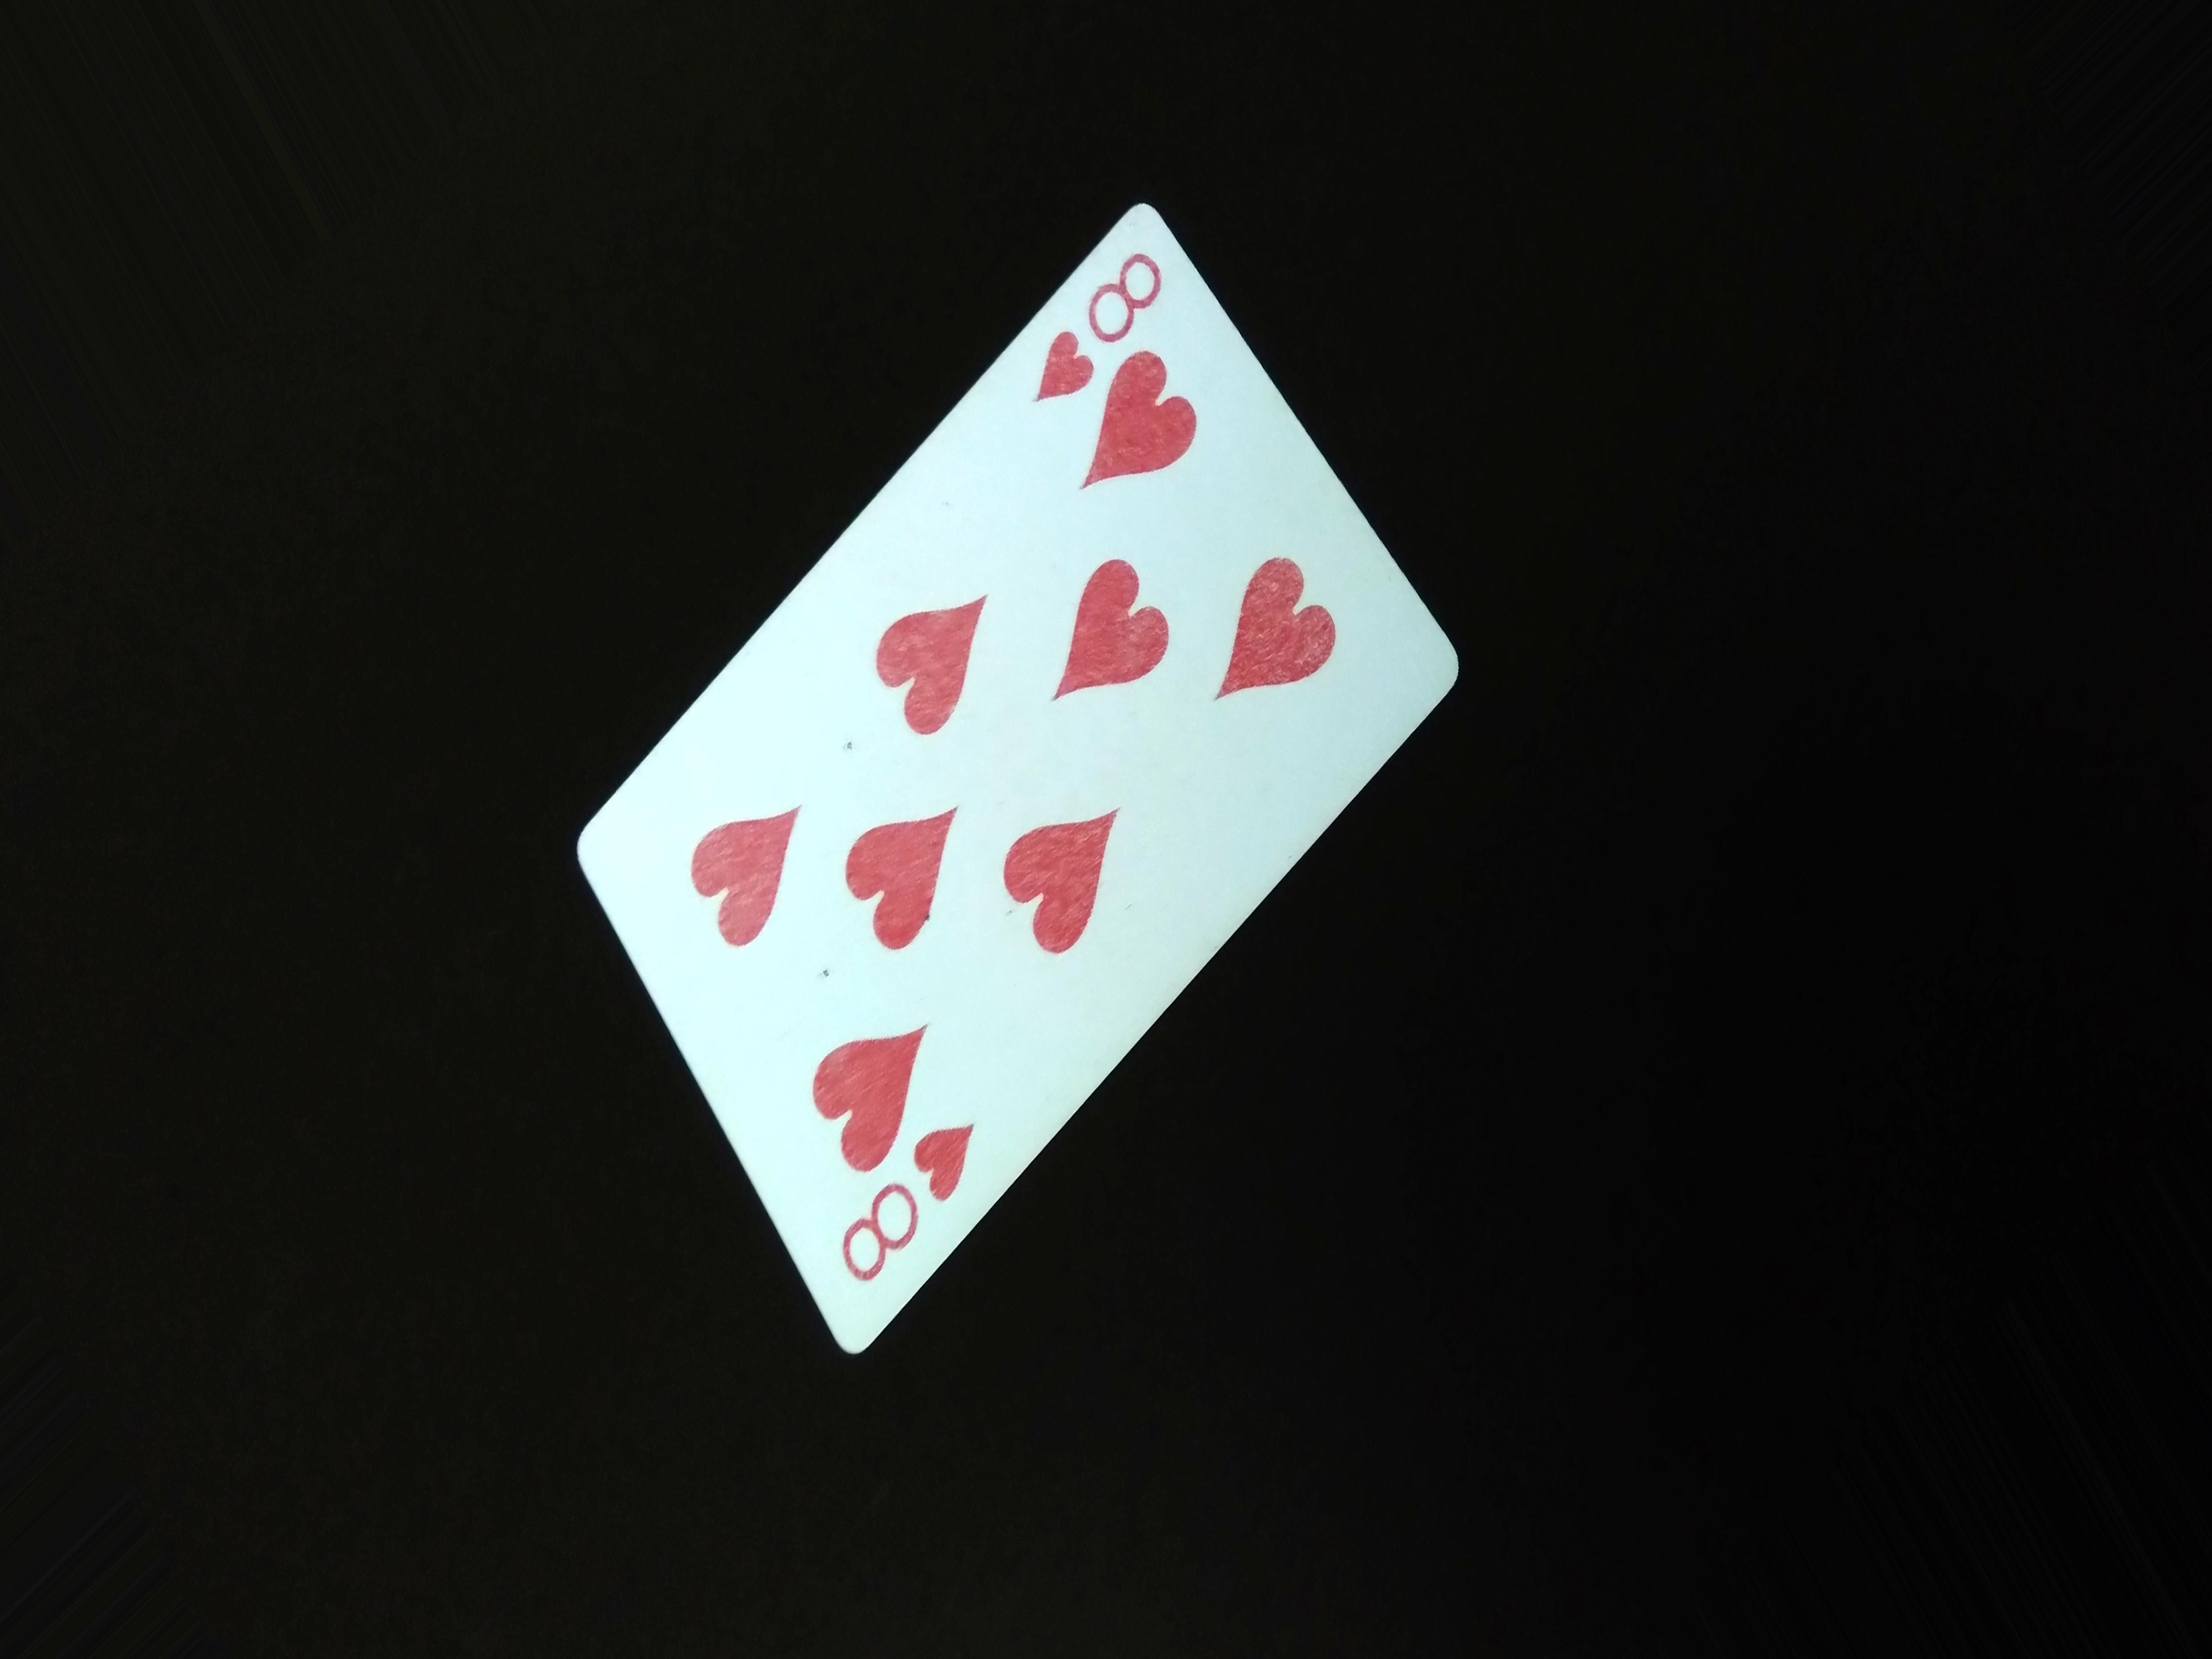8H: (1015, 235, 1179, 418)
